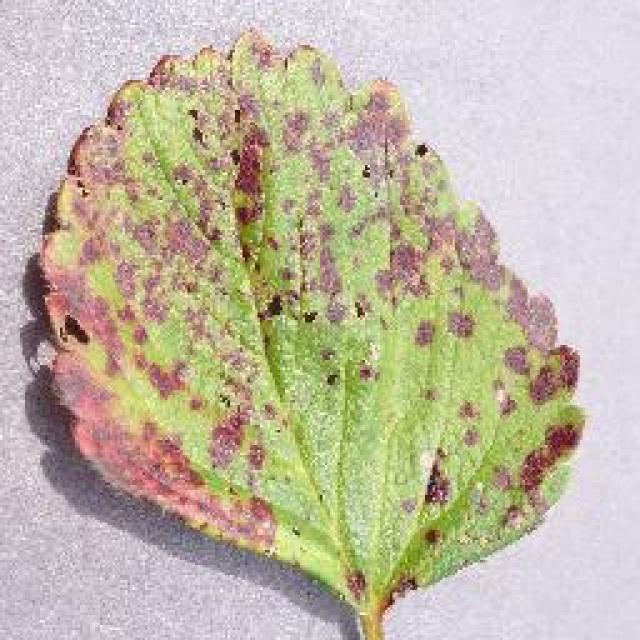Strawberry leaf scorch: (31, 68, 576, 540)
